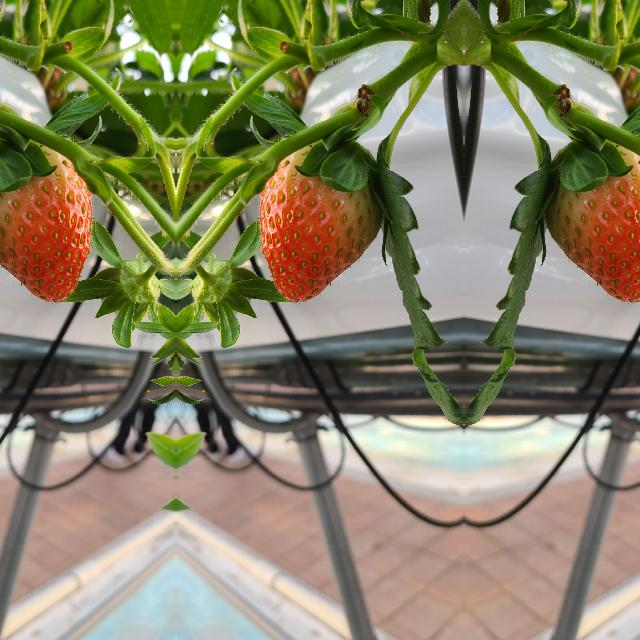Health_75: (256, 138, 382, 304), (544, 138, 640, 303), (0, 138, 94, 303)
